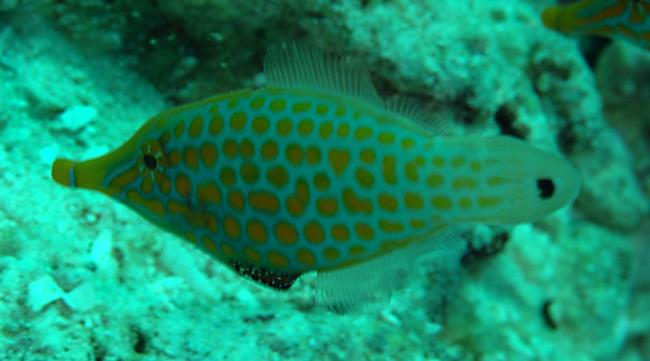fish: (51, 85, 581, 293)
